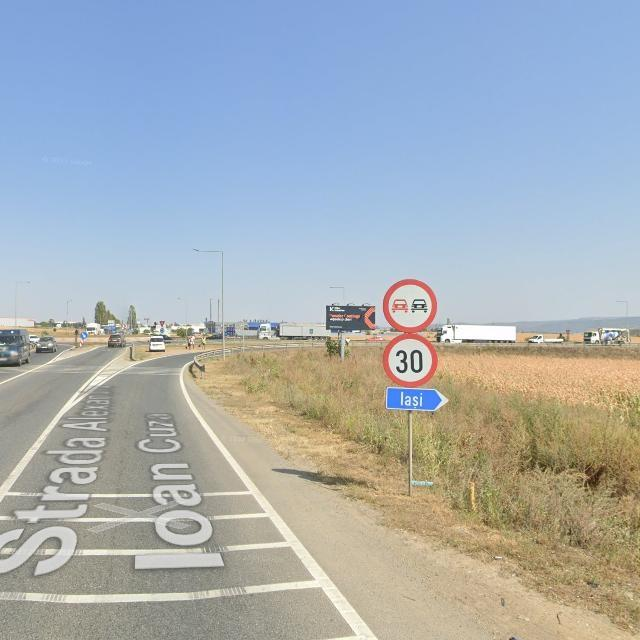forb_overtake: (381, 278, 437, 331)
forb_speed_over_30: (382, 333, 438, 388)
